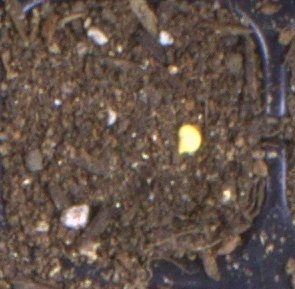chilli seed: (176, 124, 202, 155)
